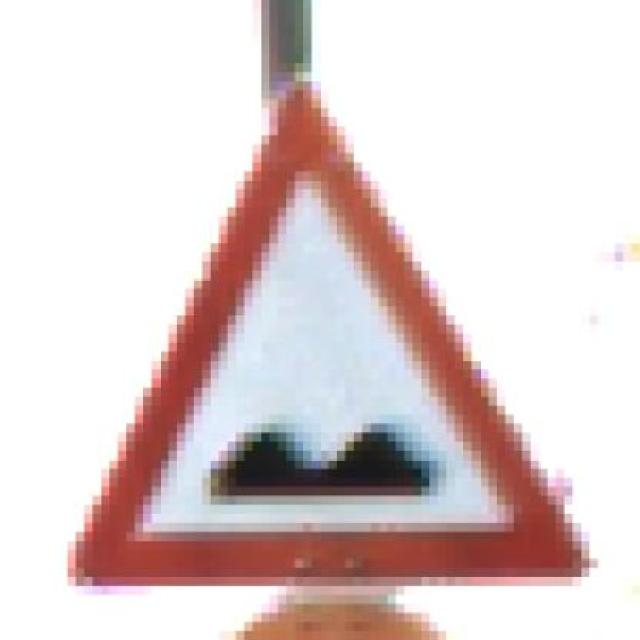Uneven Road: (64, 70, 596, 592)
